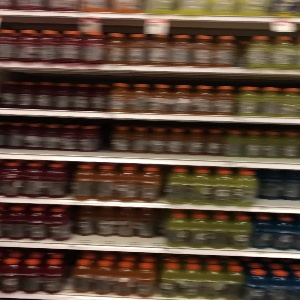void: (256, 168, 300, 206)
